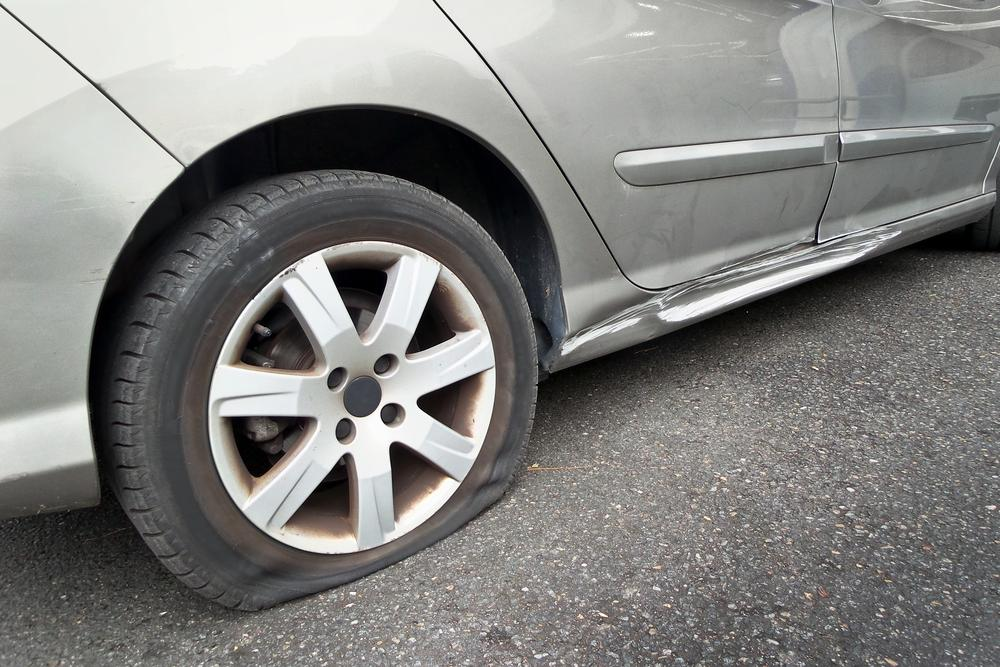scratch: (554, 222, 917, 354)
tire flat: (108, 170, 541, 610)
